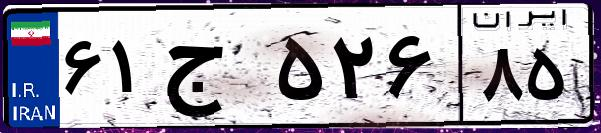1: (110, 28, 158, 98)
2: (330, 28, 385, 110)
5: (270, 28, 330, 110), (525, 38, 570, 115)
6: (385, 28, 445, 110), (57, 26, 110, 100)
8: (475, 38, 525, 113)
ج: (158, 20, 270, 120)
